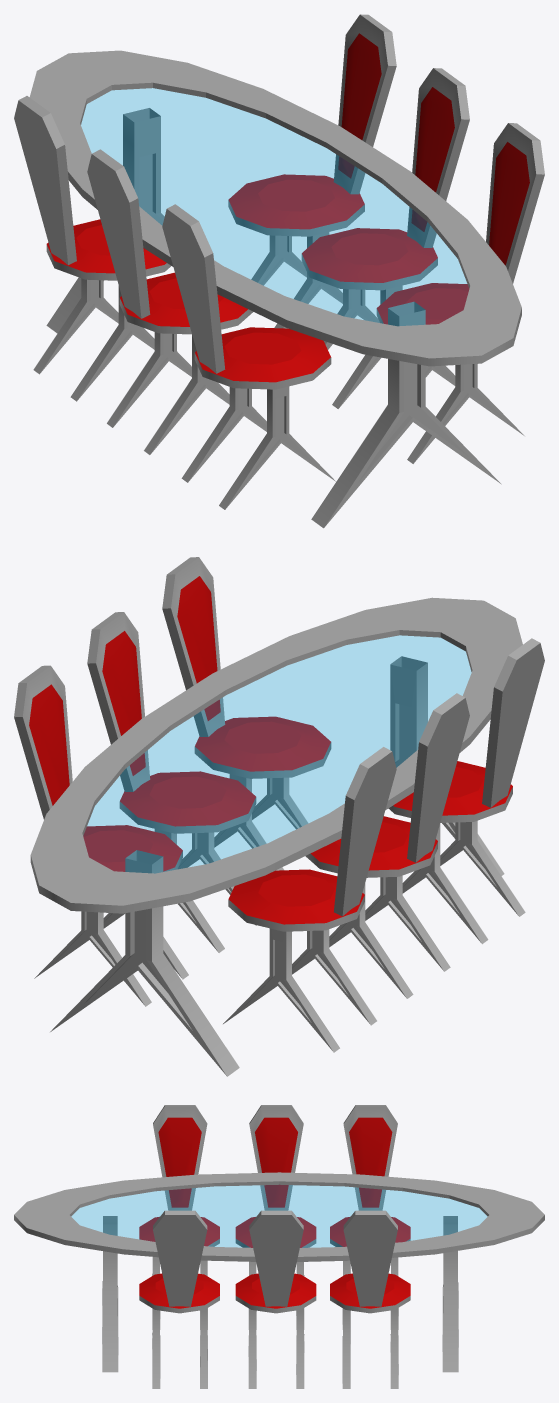
Rendered from SM_dinnertable_chairs.fbx.
The picture shows the model from 3 angles, top to bottom: view 1: azimuth 30°, elevation 25°; view 2: azimuth 150°, elevation 25°; view 3: azimuth 270°, elevation 25°; orthographic projection. The views are drawn at different scales.
Visible parts, largest first — view 1: pCylinder65; view 2: pCylinder65; view 3: pCylinder65.
Part boxes in pixels (box(x1,y1,x2,y2)): pCylinder65: box(14, 14, 544, 528); pCylinder65: box(14, 557, 544, 1076); pCylinder65: box(14, 1105, 544, 1388).
Bounding box in the file's own units: 15.12 × 11.96 × 30.9.
